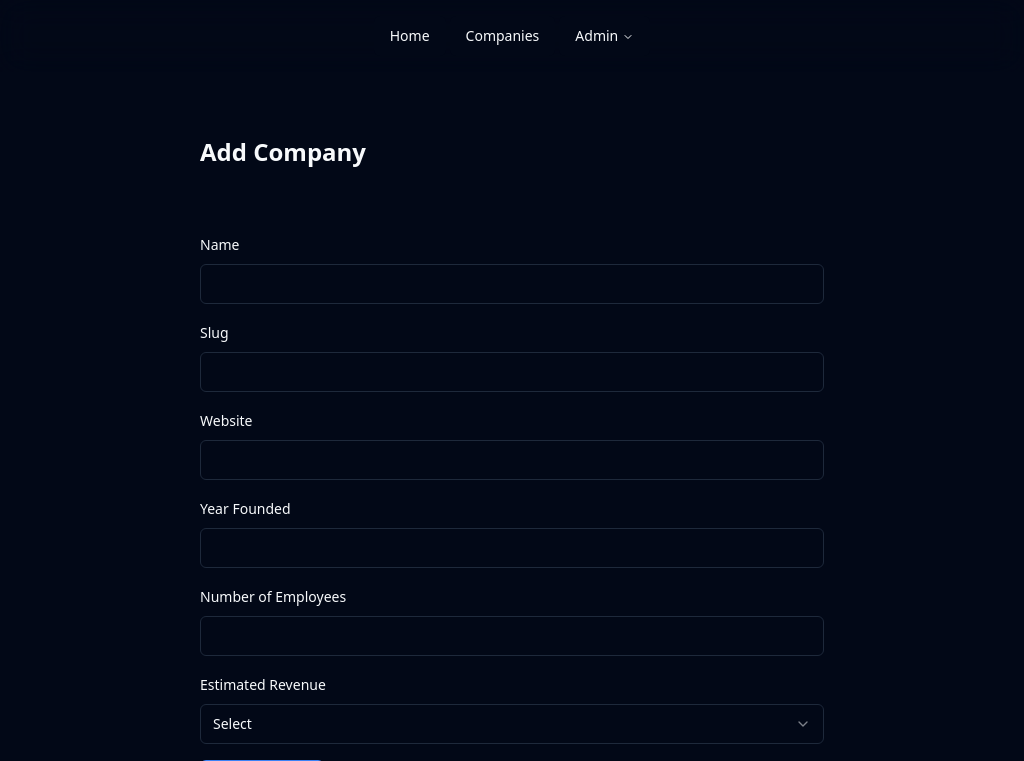
Scenario: Company Form Page › validates invalid website URL
The image size is (1024, 761).
Type "invalid-url" into the field named "website" at (512, 460), box [200,440,824,480]
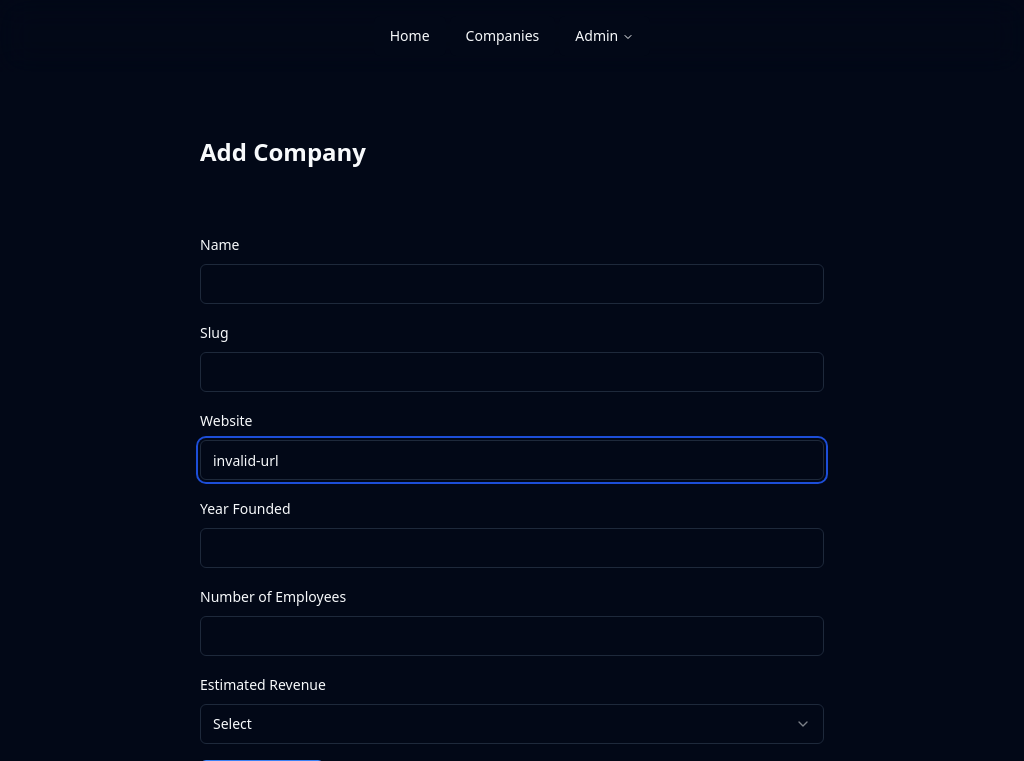
Scroll
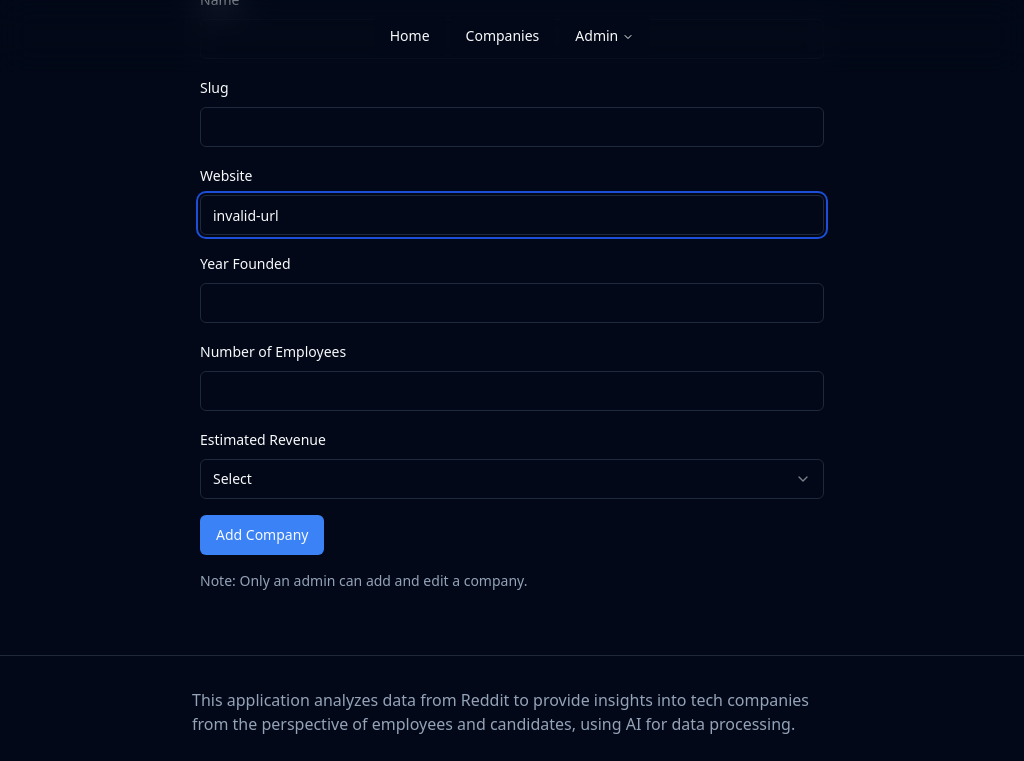
Click the submit button at (263, 535), box [200,515,325,555]
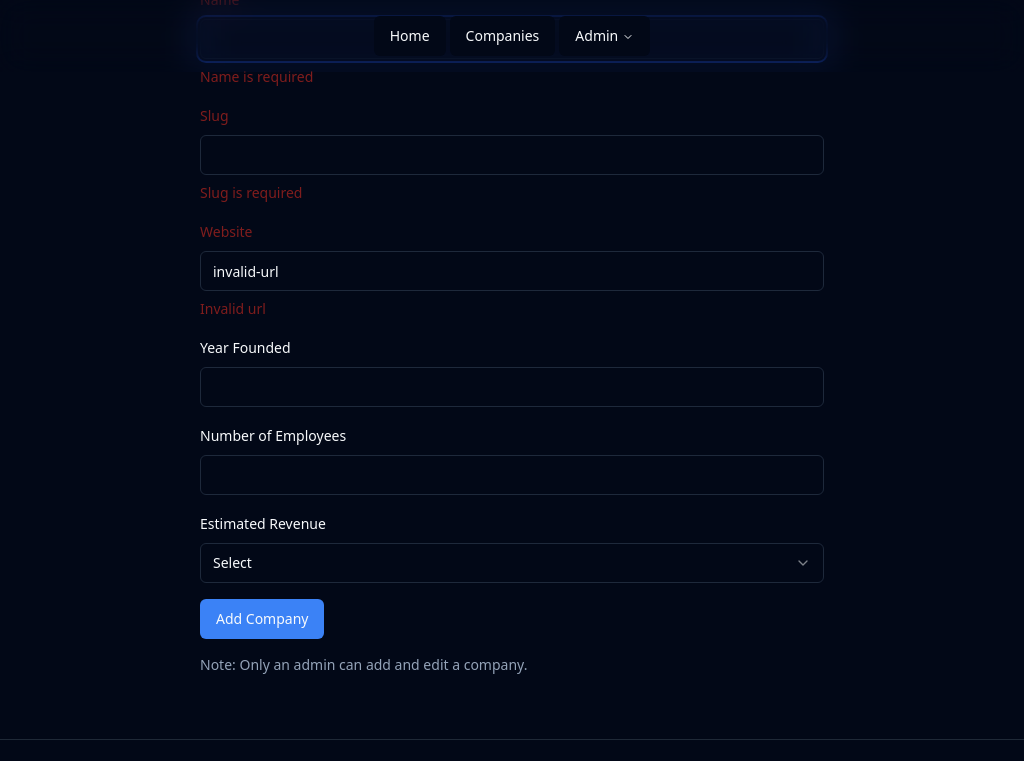
Expected: the text "Invalid url" is shown, [200,299,266,318]
